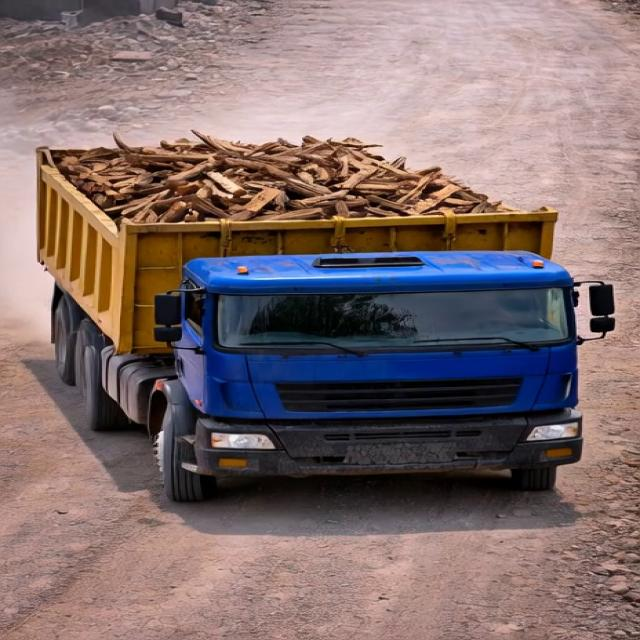Box: (30, 125, 559, 225)
Truck: (12, 119, 620, 503)
